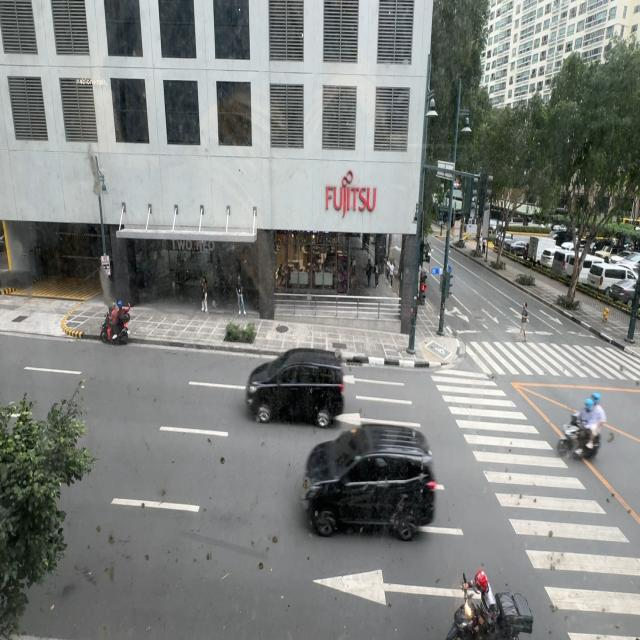crossing: (517, 298, 529, 338)
pedestrain: (236, 274, 246, 314), (201, 276, 208, 314)
